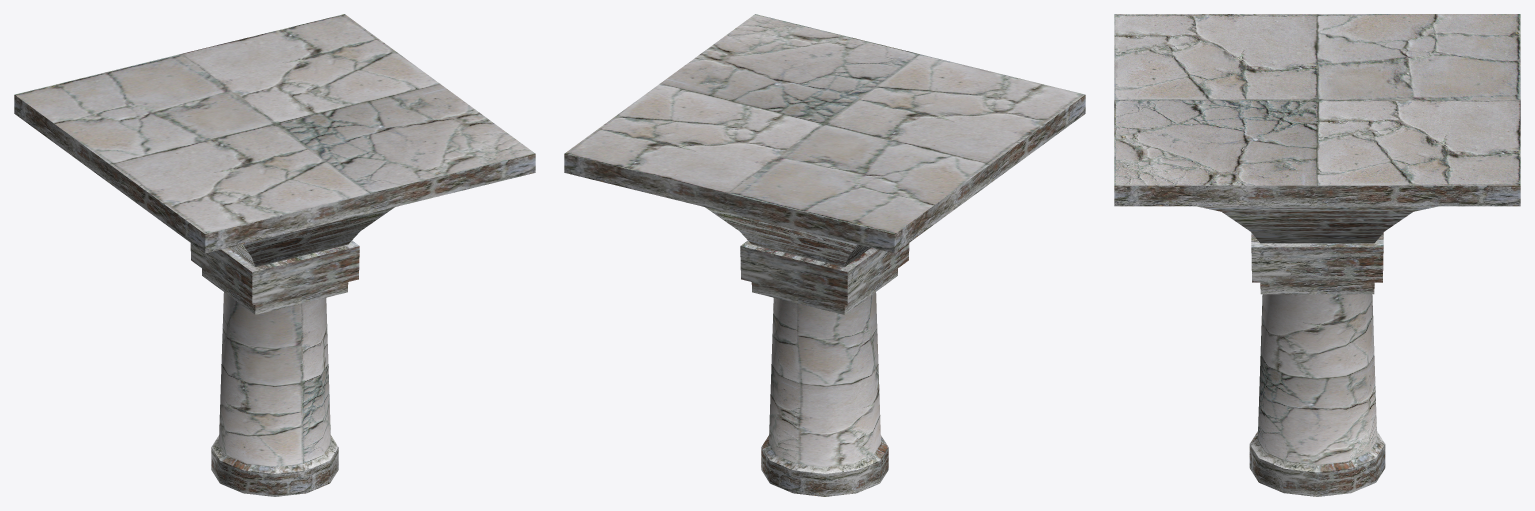
Rendered from Column2.FBX.
3 renders of one model, left to right at view 1: azimuth 30°, elevation 25°; view 2: azimuth 150°, elevation 25°; view 3: azimuth 270°, elevation 25°, orthographic. The views are drawn at different scales.
Visible parts, largest first — view 1: Column2; view 2: Column2; view 3: Column2.
Part boxes in pixels (<box>): Column2: <box>14,14,535,496</box>; Column2: <box>564,14,1085,496</box>; Column2: <box>1114,14,1520,496</box>.
Size of the model in its own units: 360 by 360 by 360.
